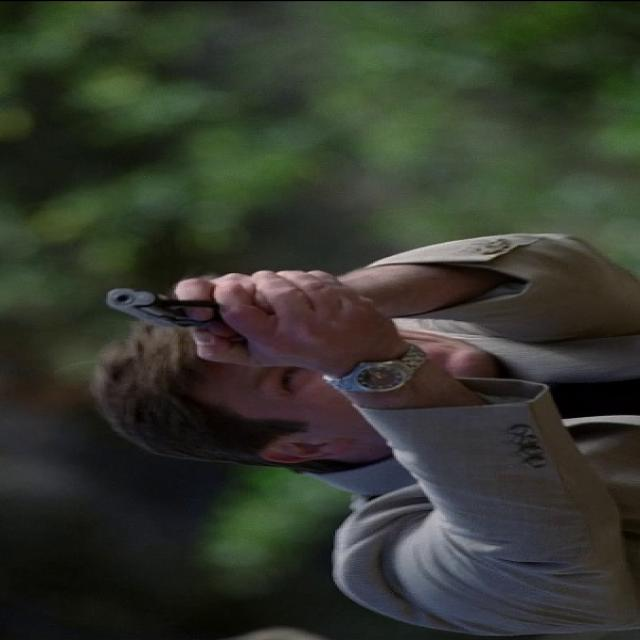weapons: (83, 270, 360, 362)
